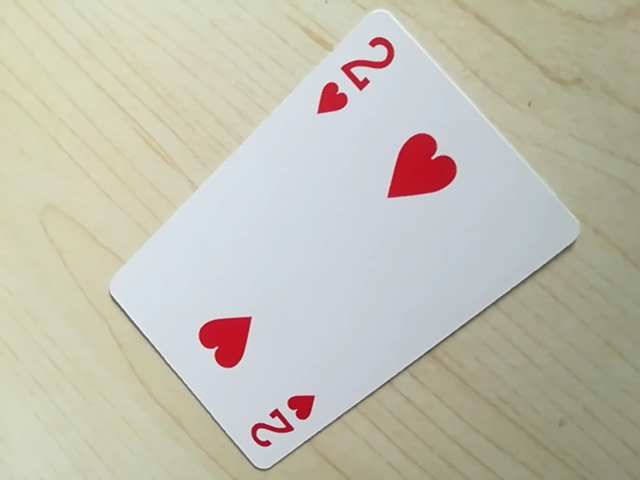hx 2: (310, 35, 399, 119), (239, 392, 322, 457)
